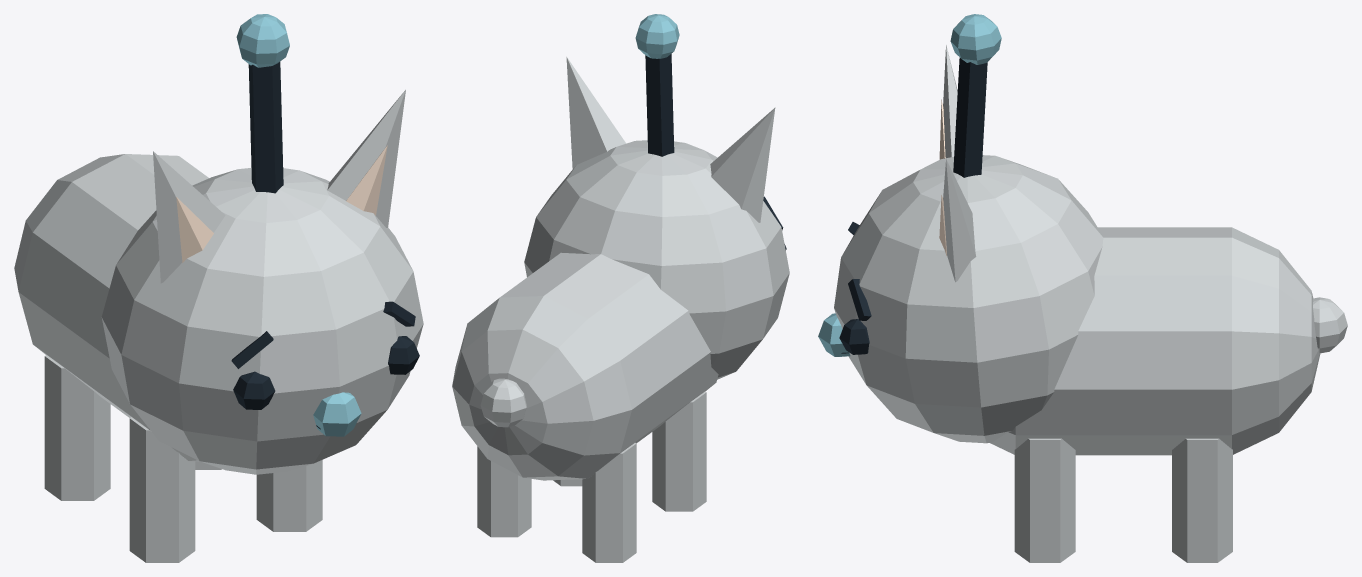
The model's file is bean-ocean-1.glb.
The picture shows the model from 3 angles, left to right: view 1: azimuth 30°, elevation 25°; view 2: azimuth 150°, elevation 25°; view 3: azimuth 270°, elevation 25°; orthographic projection. The views are drawn at different scales.
Visible parts, largest first — view 1: bean-ocean-1; view 2: bean-ocean-1; view 3: bean-ocean-1.
Boxes of the visible parts, bbox=[...] form: bean-ocean-1: bbox=[14, 14, 423, 562]; bean-ocean-1: bbox=[452, 14, 789, 562]; bean-ocean-1: bbox=[818, 14, 1347, 562].
Bounding box in the file's own units: 0.4379 × 0.809 × 0.7667.
